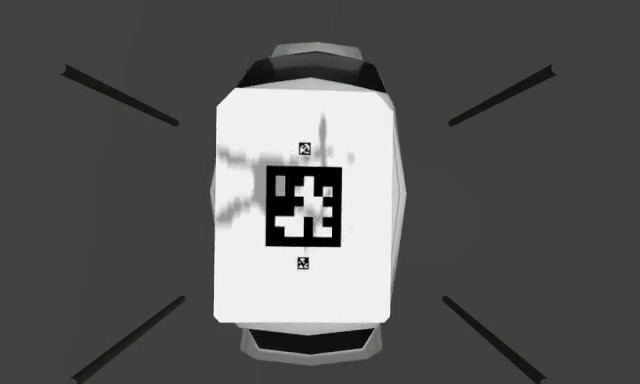Landing Pad: (216, 88, 391, 324)
